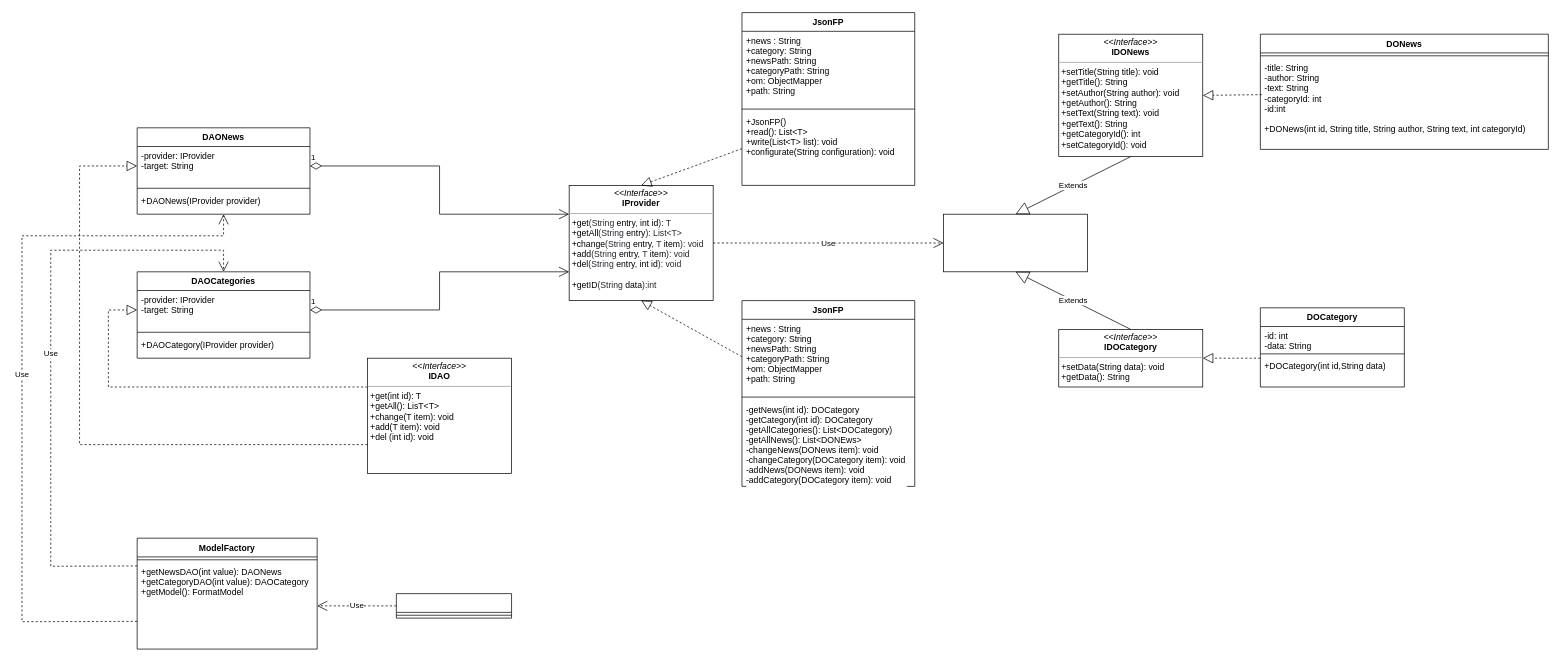
This 1561x664 diagram has some shape labels left out. The centre of each missing label's shape, as x and y in pixels:
"<<Interface>> IBaseData +getId : int +setId : void" goes at point 1015,242.
"FormatModel" goes at point 454,605.
